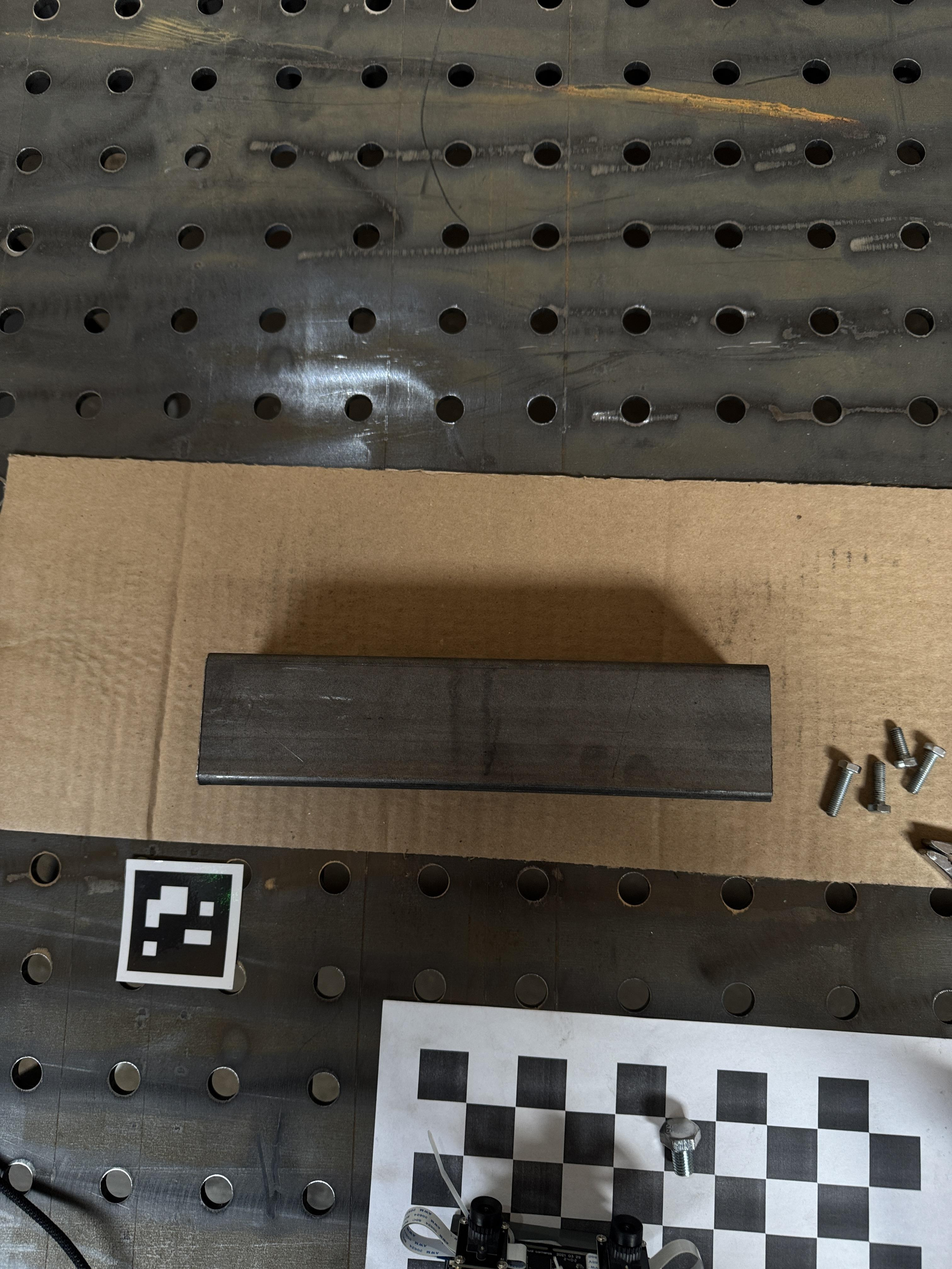detail: (196, 654, 774, 803)
